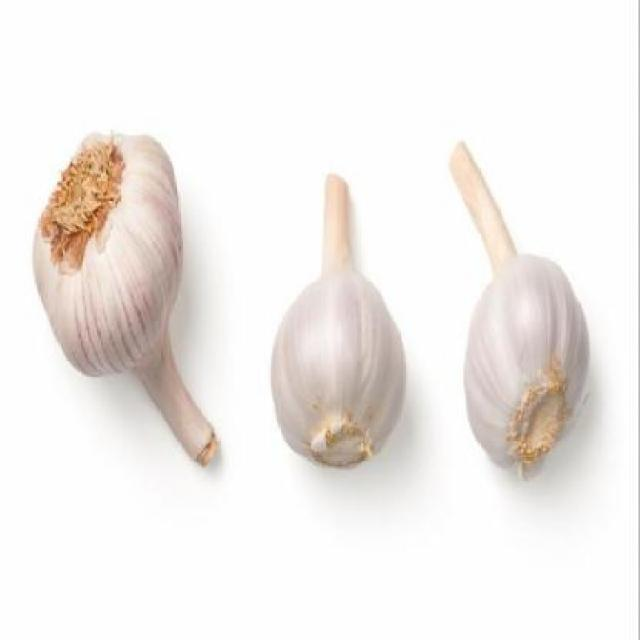garlic: (30, 124, 222, 472), (446, 136, 592, 487), (266, 166, 408, 472)
